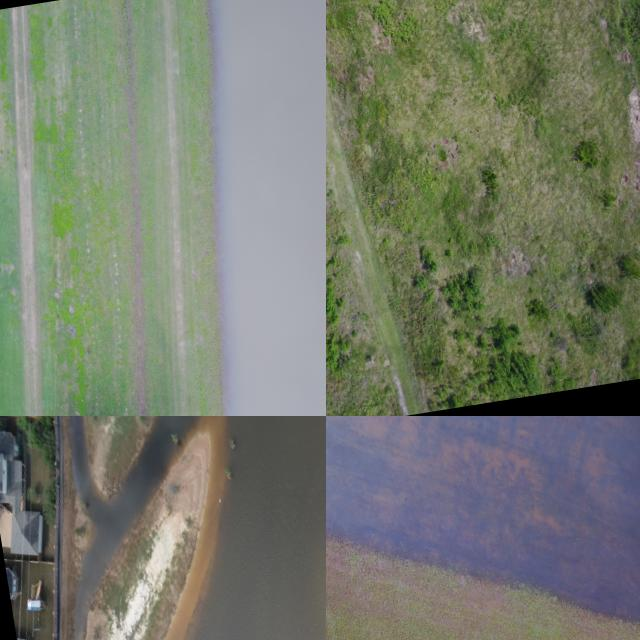fire: (326, 416, 640, 620), (212, 0, 326, 416), (185, 416, 326, 640), (70, 416, 198, 640)
